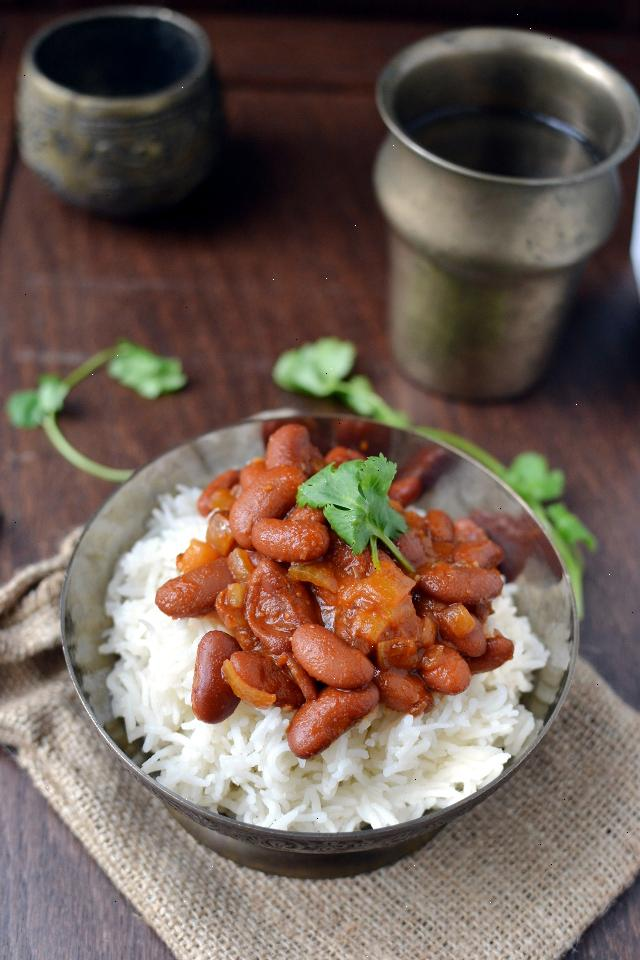rajma: (208, 453, 475, 742)
